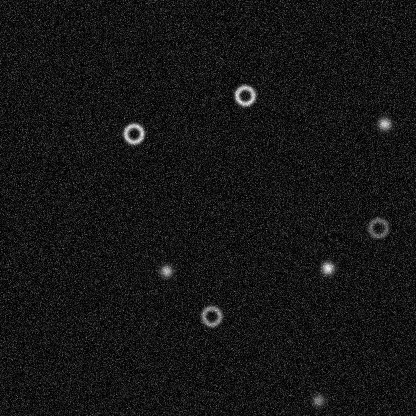Ring: (232, 83, 256, 107), (121, 121, 145, 145), (366, 215, 390, 239), (199, 303, 223, 327)
Spot: (309, 392, 325, 408), (158, 262, 174, 278), (319, 259, 335, 275), (376, 115, 392, 131)
